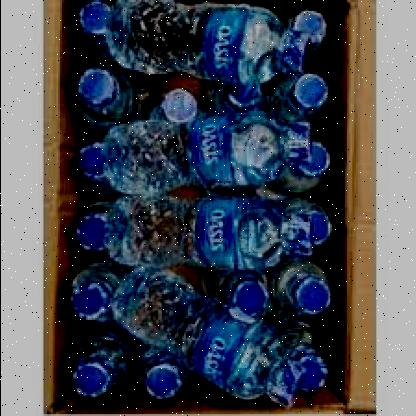Plastic Bottle: (67, 1, 335, 407), (69, 260, 330, 406), (74, 108, 330, 196), (74, 0, 328, 88), (74, 193, 332, 271), (207, 256, 331, 322), (70, 326, 136, 400)
